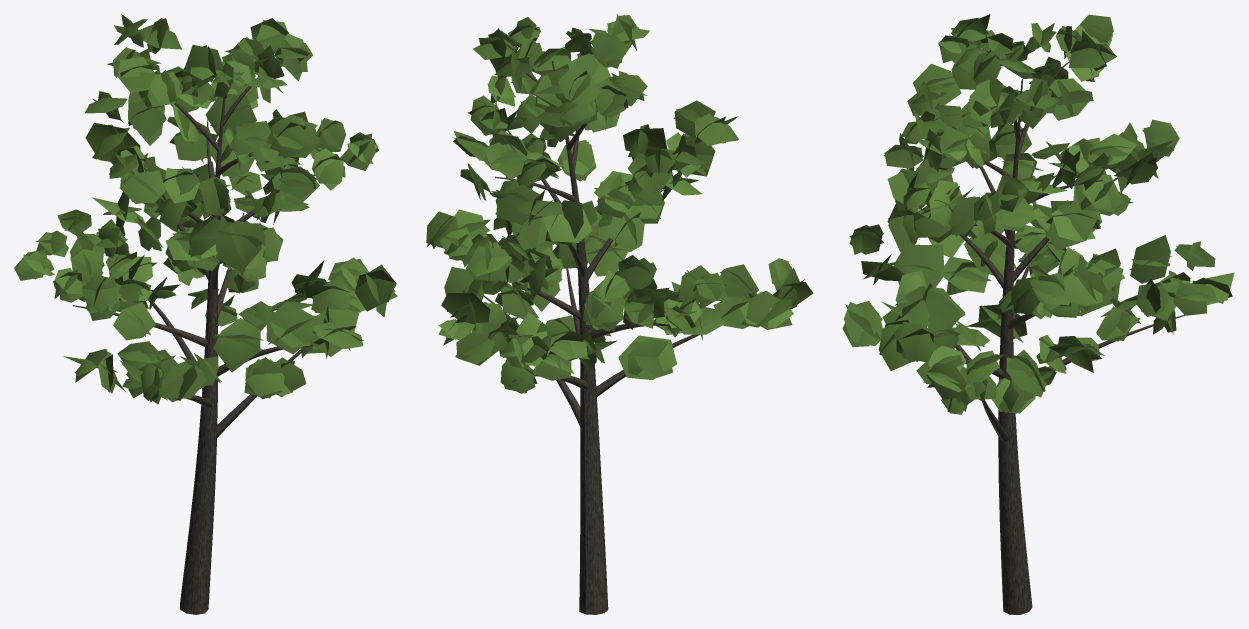
Rendered from asymmetric_06_lod1.glb.
3 renders of one model, left to right at view 1: azimuth 30°, elevation 25°; view 2: azimuth 150°, elevation 25°; view 3: azimuth 270°, elevation 25°, orthographic.
Parts seen in each view (by area): view 1: individual_curved_leaf_sprigs, retained_branches_0; view 2: individual_curved_leaf_sprigs, retained_branches_0; view 3: individual_curved_leaf_sprigs, retained_branches_0.
Part boxes in pixels (x1,y1,x2,y2): individual_curved_leaf_sprigs: [14, 14, 397, 404]; retained_branches_0: [72, 77, 315, 614]; individual_curved_leaf_sprigs: [426, 14, 813, 393]; retained_branches_0: [483, 61, 699, 614]; individual_curved_leaf_sprigs: [842, 14, 1234, 414]; retained_branches_0: [942, 61, 1184, 614].
Size of the model in its own units: 6.39 by 10.54 by 6.35.
2 materials, 1 textured.
